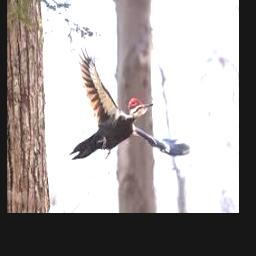Woodpecker: (70, 38, 191, 159)
